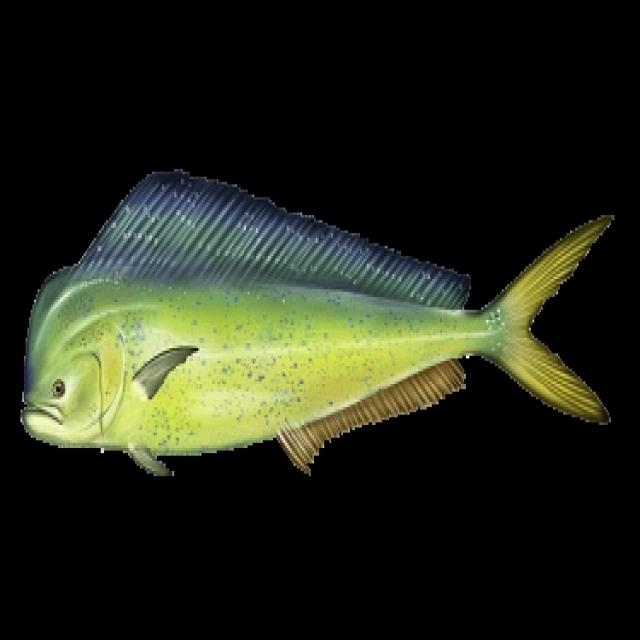foca_leopardo: (20, 172, 611, 474)
